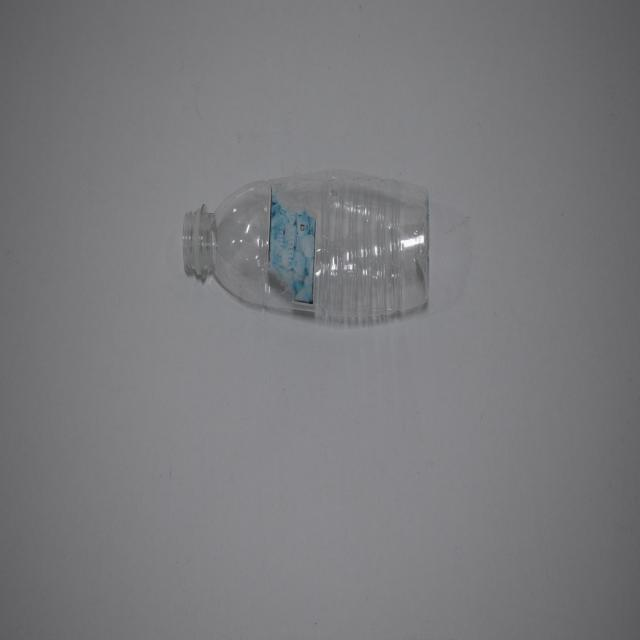plastic: (171, 162, 437, 336)
